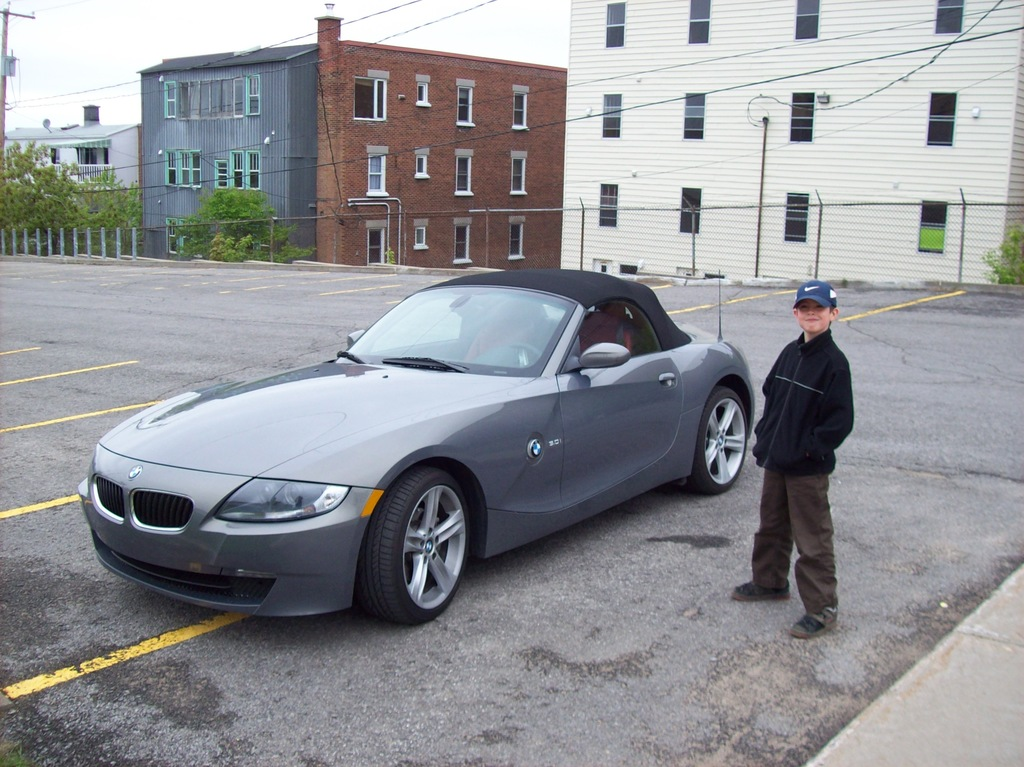Person: (730, 279, 854, 638)
